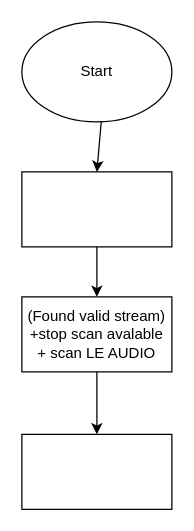
The diagram is 194 pixels wide and 531 high, and some of its shapes have lost their labels. Here are the shapes that lost their labels. From the top down, the centre of each, then its label:
[96,209]: (Init things) regist scan LE audio start scan for suitable
[96,471]: (Stream state) + Stop scan + start scan valid src
